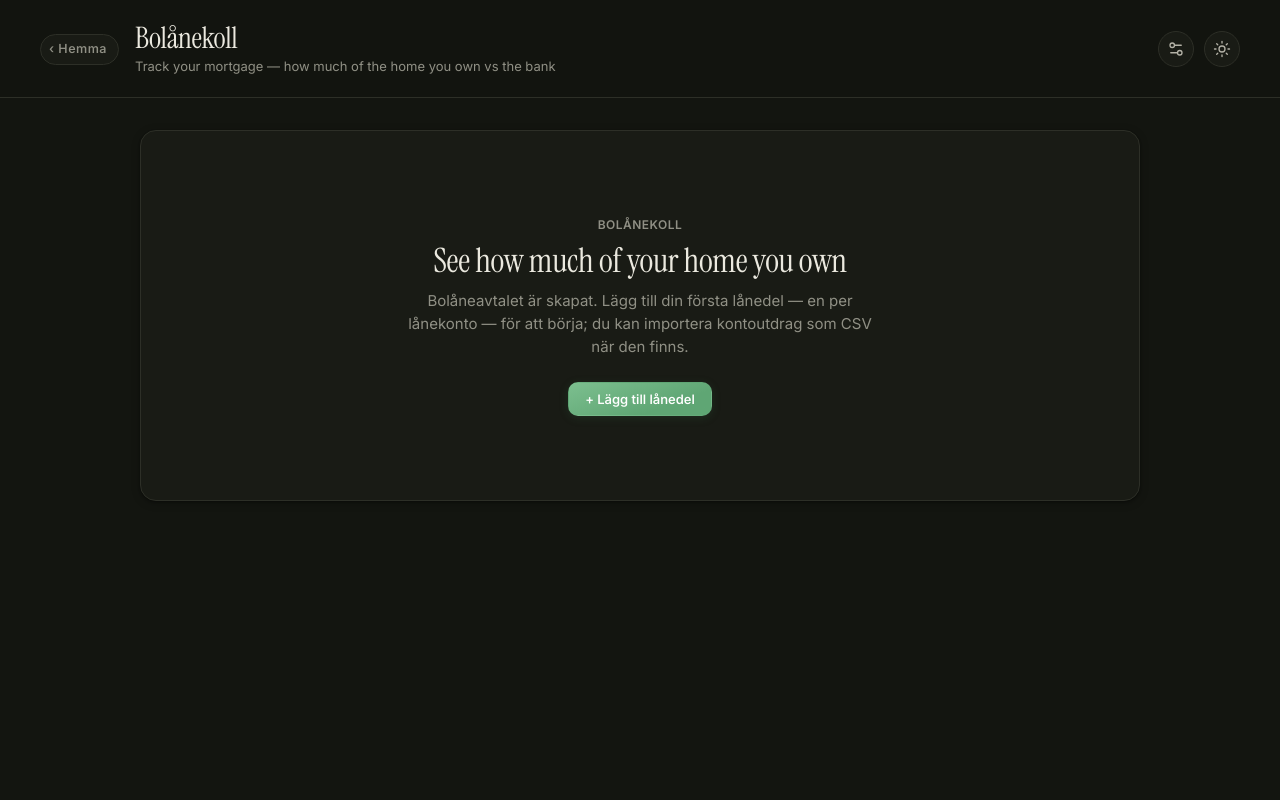
Test: Bolanekoll — save failures surface to the user (regression for audit H2 / PR #237) › closes the dialog and confirms when addLoanPart resolves
Click the button "+ Lägg till lånedel": click(640, 398) [568,382,712,416]
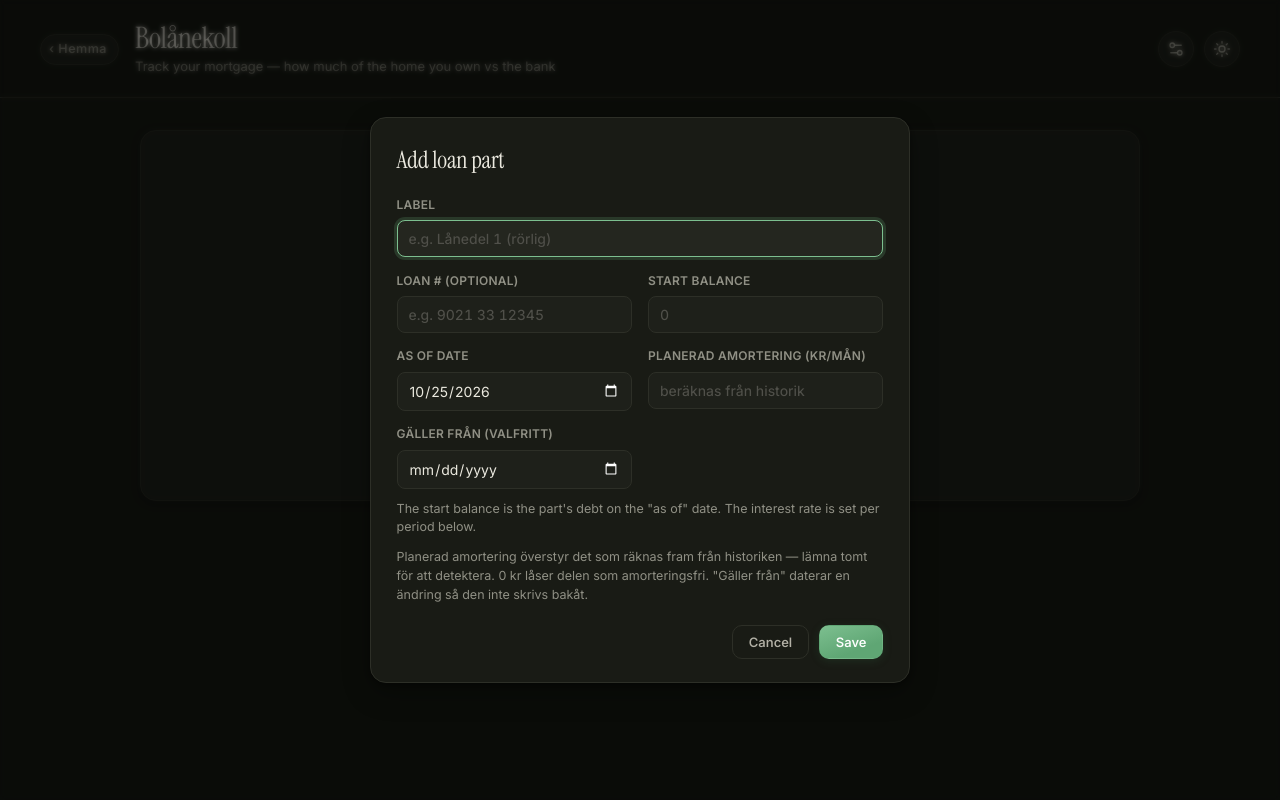
In the field with placeholder "e.g. Lånedel 1 (rörlig)": (640, 239) [397,220,883,257], type "Lånedel 1"
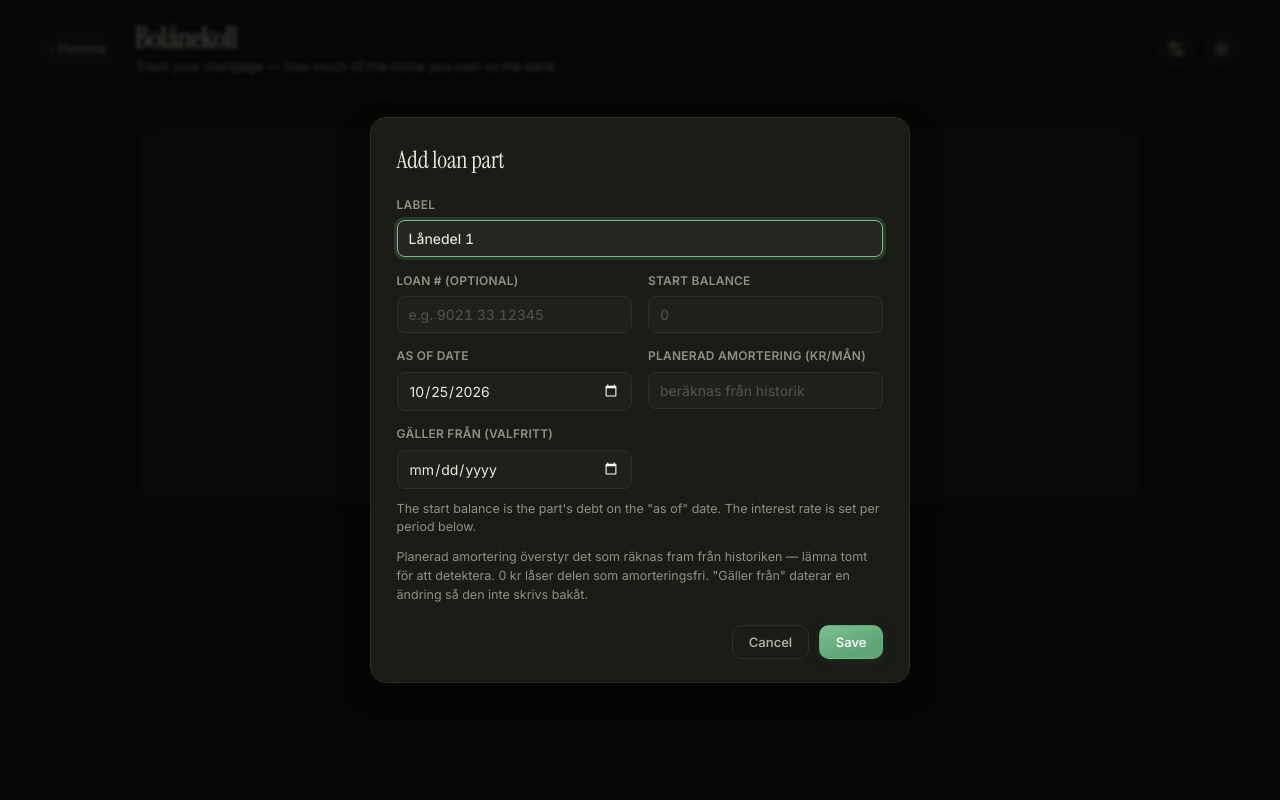
Click the button "Save": click(851, 642) [819,625,883,659]
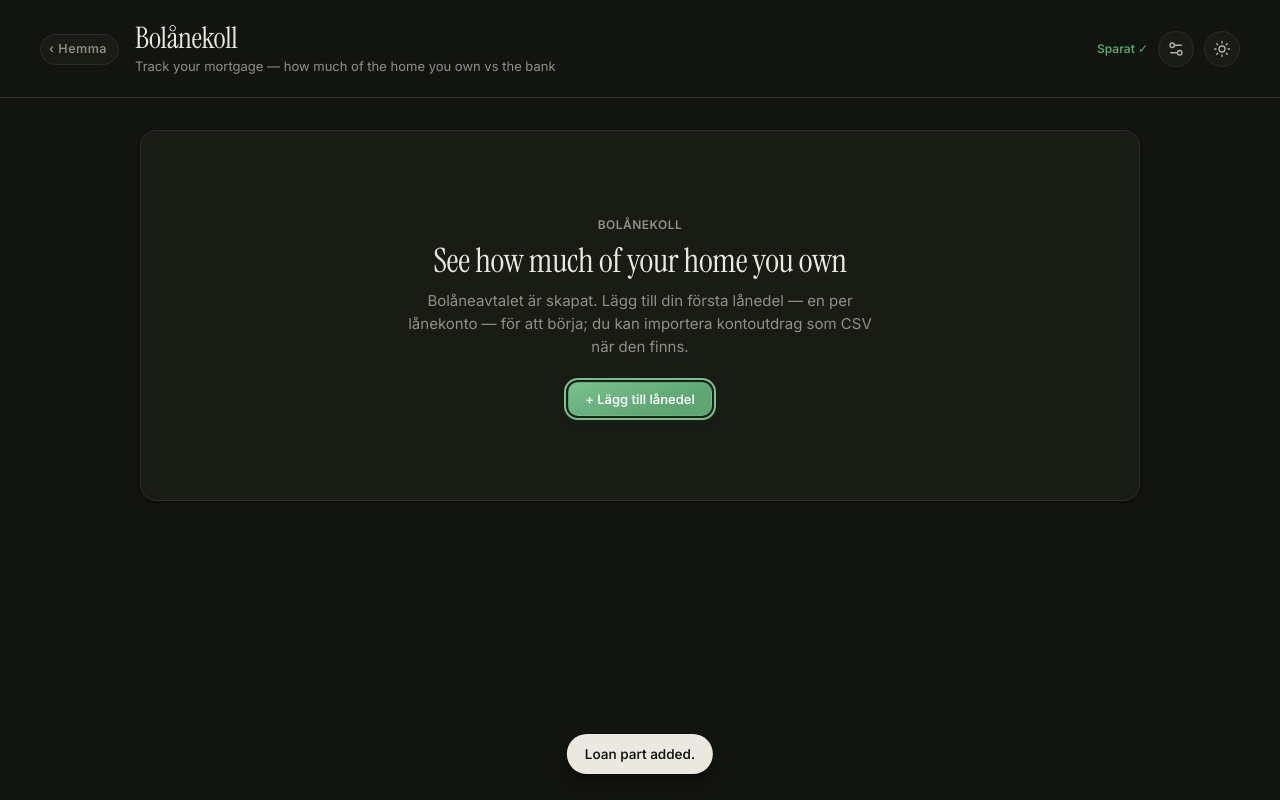
Expected: the text "Loan part added." is shown, [567,734,713,774]
